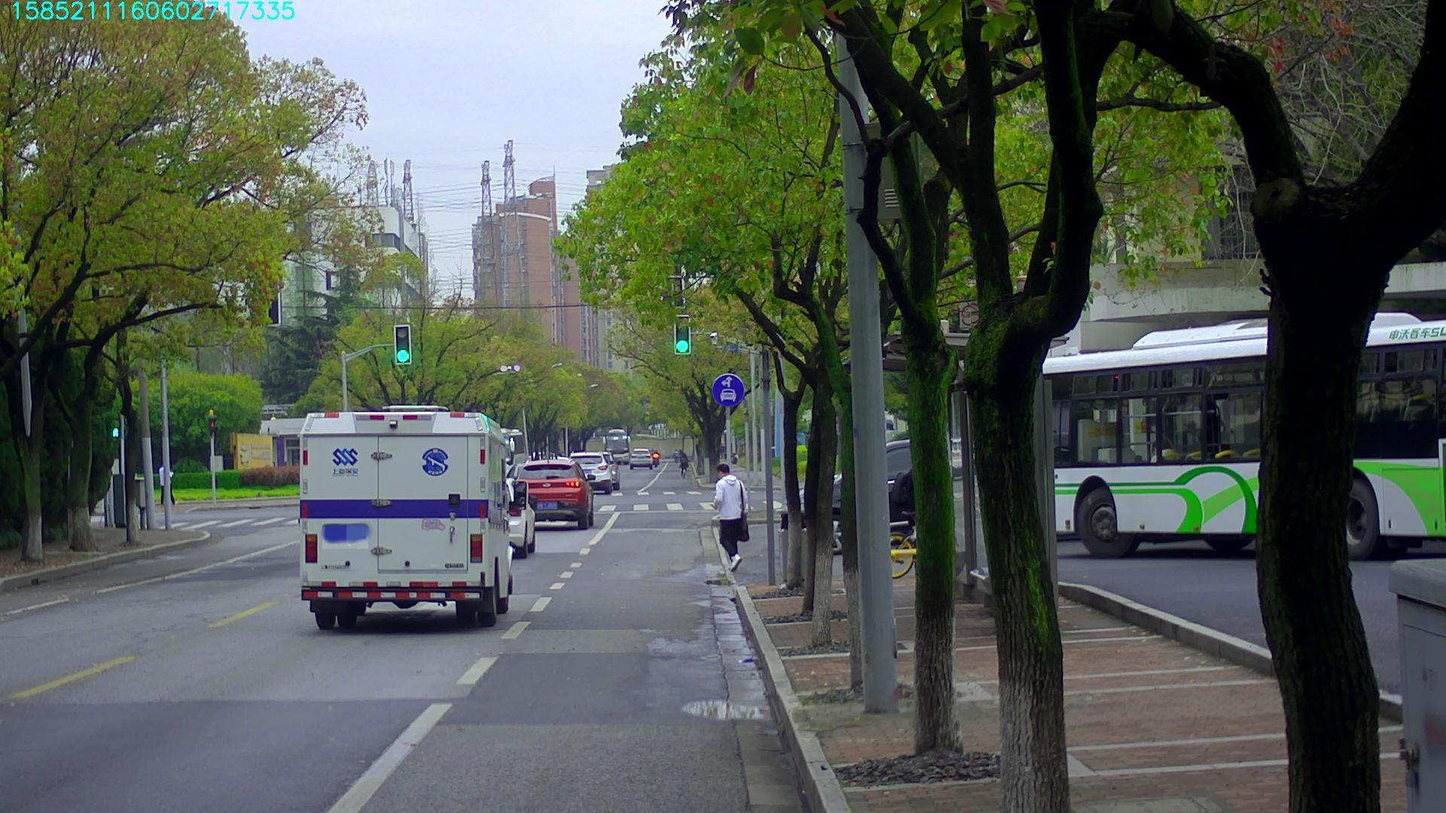green: (394, 325, 410, 364), (674, 315, 688, 353)
